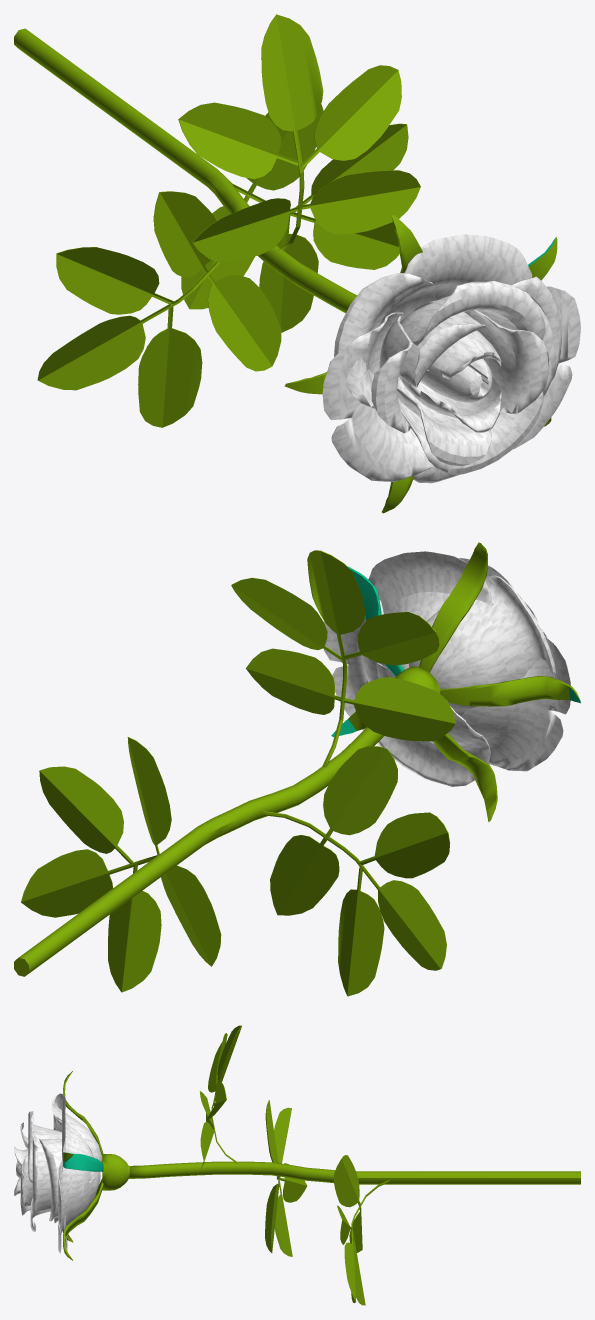
The model's file is rose2.glb.
3 views of the same model, one above another, from view 1: azimuth 30°, elevation 25°; view 2: azimuth 150°, elevation 25°; view 3: azimuth 270°, elevation 25° (orthographic). The views are drawn at different scales.
Parts seen in each view (by area): view 1: ID196, ID220, ID238, ID256, ID59, ID188, ID124, ID116, ID148, ID132, ID100, ID156 (+7 smaller); view 2: ID220, ID196, ID238, ID132, ID256, ID59, ID188, ID72, ID80, rose.dxf, ID164, ID47 (+2 smaller); view 3: ID256, ID220, ID238, ID196, ID164, ID172, ID140, ID262, ID132, ID188, ID124, ID23 (+2 smaller).
Boxes of the visible parts, x1,y1,x2,y2 form: ID196: [178, 14, 420, 262]; ID220: [37, 191, 281, 427]; ID238: [181, 104, 408, 332]; ID256: [14, 28, 356, 313]; ID59: [322, 312, 434, 481]; ID188: [379, 234, 532, 325]; ID124: [400, 280, 545, 345]; ID116: [470, 310, 549, 413]; ID148: [399, 330, 501, 432]; ID132: [334, 273, 434, 408]; ID100: [397, 384, 491, 465]; ID156: [398, 378, 543, 474]; ID220: [262, 746, 450, 996]; ID196: [231, 550, 455, 767]; ID238: [21, 737, 221, 992]; ID132: [409, 575, 555, 710]; ID256: [14, 727, 383, 976]; ID59: [461, 636, 570, 771]; ID188: [368, 551, 492, 621]; ID72: [366, 663, 490, 786]; ID80: [439, 676, 579, 706]; rose.dxf: [419, 542, 487, 672]; ID164: [323, 600, 383, 730]; ID47: [433, 733, 497, 822]; ID256: [129, 1161, 580, 1184]; ID220: [265, 1100, 307, 1256]; ID238: [333, 1155, 389, 1305]; ID196: [199, 1025, 241, 1168]; ID164: [58, 1161, 90, 1253]; ID172: [32, 1131, 61, 1213]; ID140: [39, 1139, 100, 1221]; ID262: [102, 1154, 132, 1190]; ID132: [51, 1093, 101, 1162]; ID188: [62, 1095, 93, 1171]; ID124: [28, 1111, 61, 1182]; ID23: [63, 1152, 103, 1171].
Size of the model in its own units: 76.74 by 76.62 by 156.
Materials: 58 (15 with a texture image).
